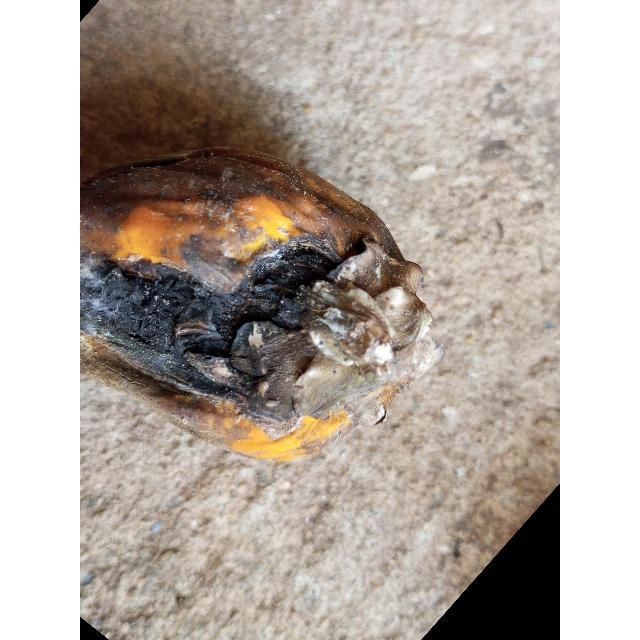damaged: (80, 149, 443, 461)
